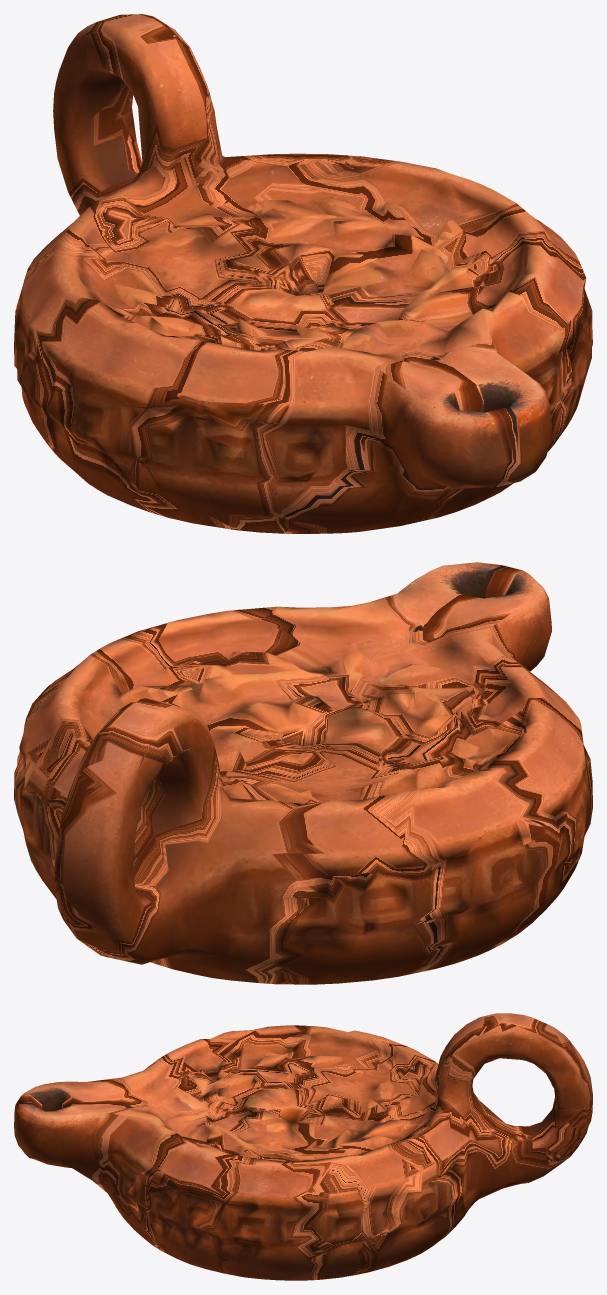
The model's file is oil-lamp.glb.
The picture shows the model from 3 angles, top to bottom: view 1: azimuth 30°, elevation 25°; view 2: azimuth 150°, elevation 25°; view 3: azimuth 270°, elevation 25°; orthographic projection. The views are drawn at different scales.
Parts seen in each view (by area): view 1: tripo_node_b7c3a14f-37a2-4158-a66c-efd37666e001; view 2: tripo_node_b7c3a14f-37a2-4158-a66c-efd37666e001; view 3: tripo_node_b7c3a14f-37a2-4158-a66c-efd37666e001.
Boxes of the visible parts, <box> form: tripo_node_b7c3a14f-37a2-4158-a66c-efd37666e001: <box>14,14,592,533</box>; tripo_node_b7c3a14f-37a2-4158-a66c-efd37666e001: <box>14,562,592,984</box>; tripo_node_b7c3a14f-37a2-4158-a66c-efd37666e001: <box>14,1013,592,1280</box>.
Bounding box in the file's own units: 0.6751 × 0.371 × 0.9997.
1 material, 1 textured.
